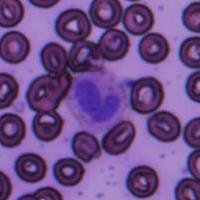N: (66, 68, 130, 129)
